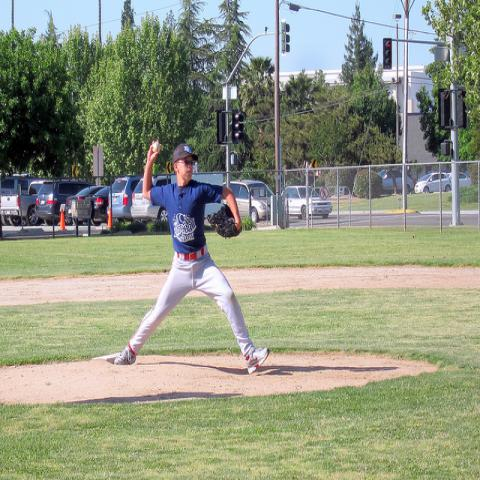car: (34, 176, 93, 226), (221, 179, 275, 224), (130, 174, 171, 223), (0, 181, 44, 226), (286, 185, 332, 221), (65, 187, 105, 225), (112, 177, 140, 219), (377, 168, 414, 194), (414, 172, 452, 194), (0, 177, 44, 195), (71, 198, 97, 228), (92, 186, 110, 226), (459, 172, 471, 189)
